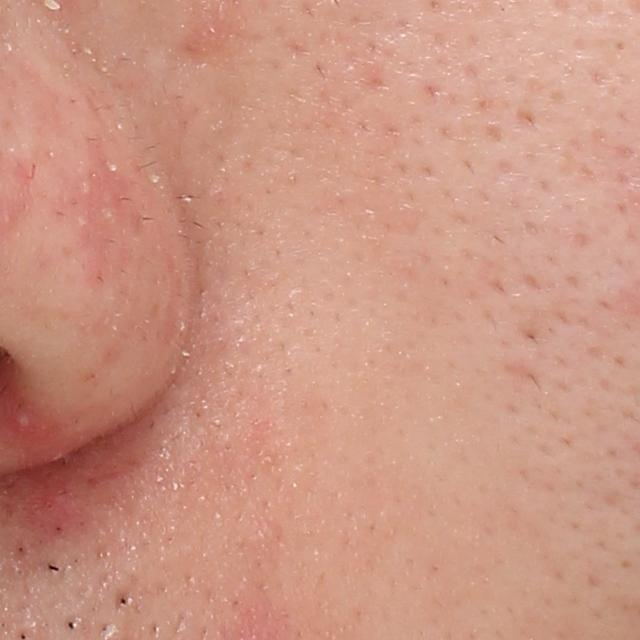pustule: (12, 410, 34, 434)
